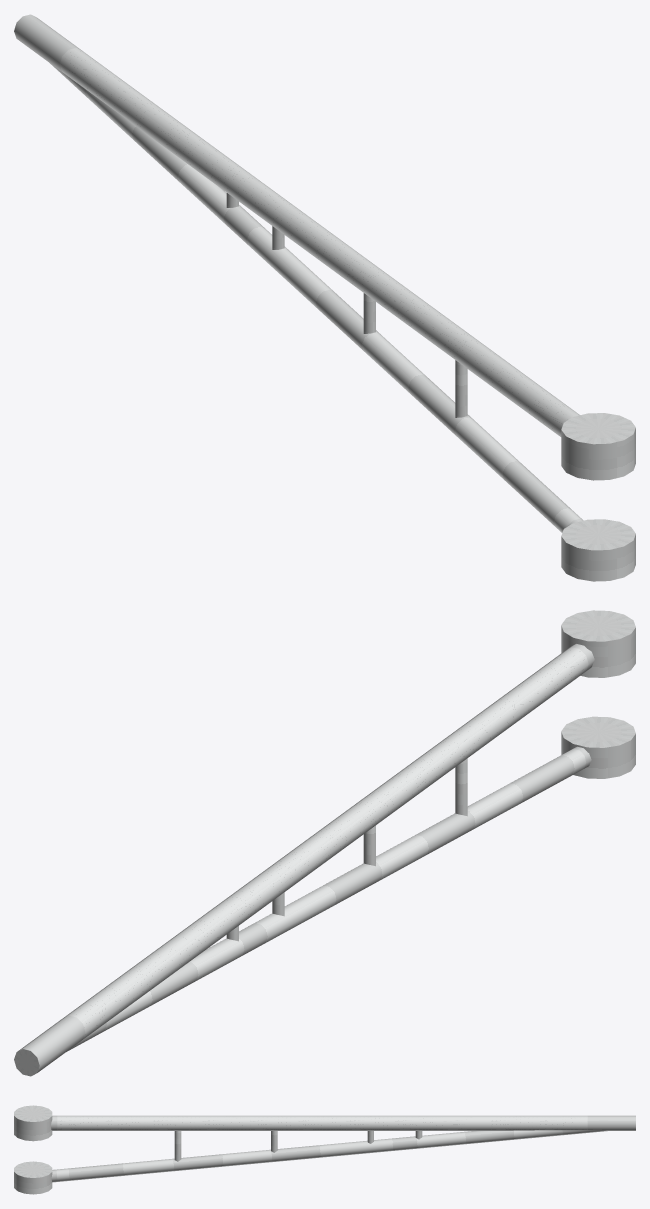
Rendered from trusssignalarm_level12_inv.obj.
3 renders of one model, top to bottom at view 1: azimuth 30°, elevation 25°; view 2: azimuth 150°, elevation 25°; view 3: azimuth 270°, elevation 25°, orthographic. The views are drawn at different scales.
Parts seen in each view (by area): view 1: trusssignalarm_level12_inv; view 2: trusssignalarm_level12_inv; view 3: trusssignalarm_level12_inv.
Boxes of the visible parts, x1,y1,x2,y2 form: trusssignalarm_level12_inv: [14, 14, 635, 581]; trusssignalarm_level12_inv: [14, 610, 635, 1076]; trusssignalarm_level12_inv: [14, 1105, 635, 1194].
Bounding box in the file's own units: 0.0635 × 0.1284 × 1.
